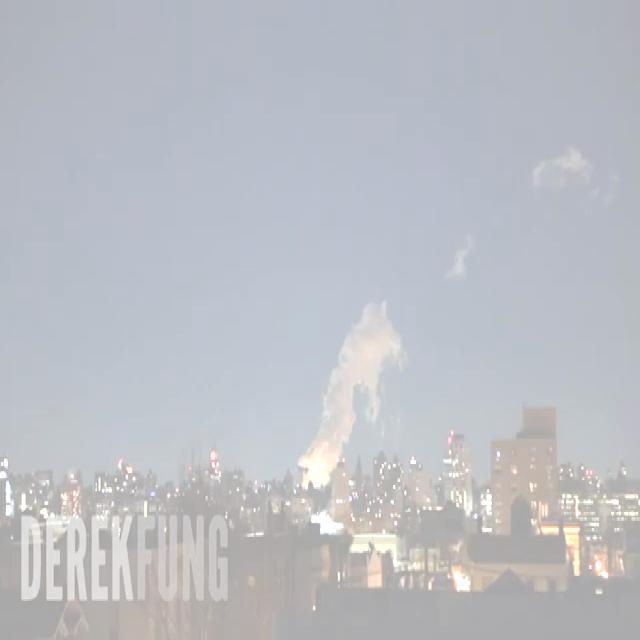smoke: (301, 300, 403, 466)
